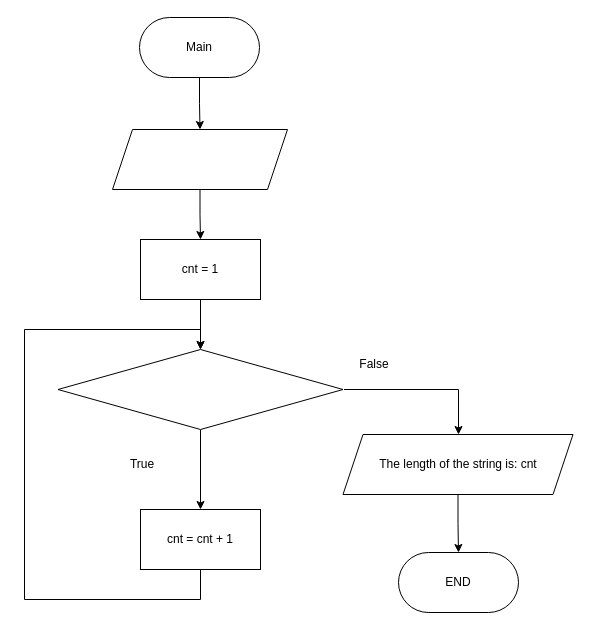
Image size: 591x630. Some labels were removed from this diagram. The shapes that lost their labels are listed below. From the top down, each one's centre as x and y in pixels, then its label:
the point at 200,159: str
the point at 200,389: str[cnt-1] != '\0'
